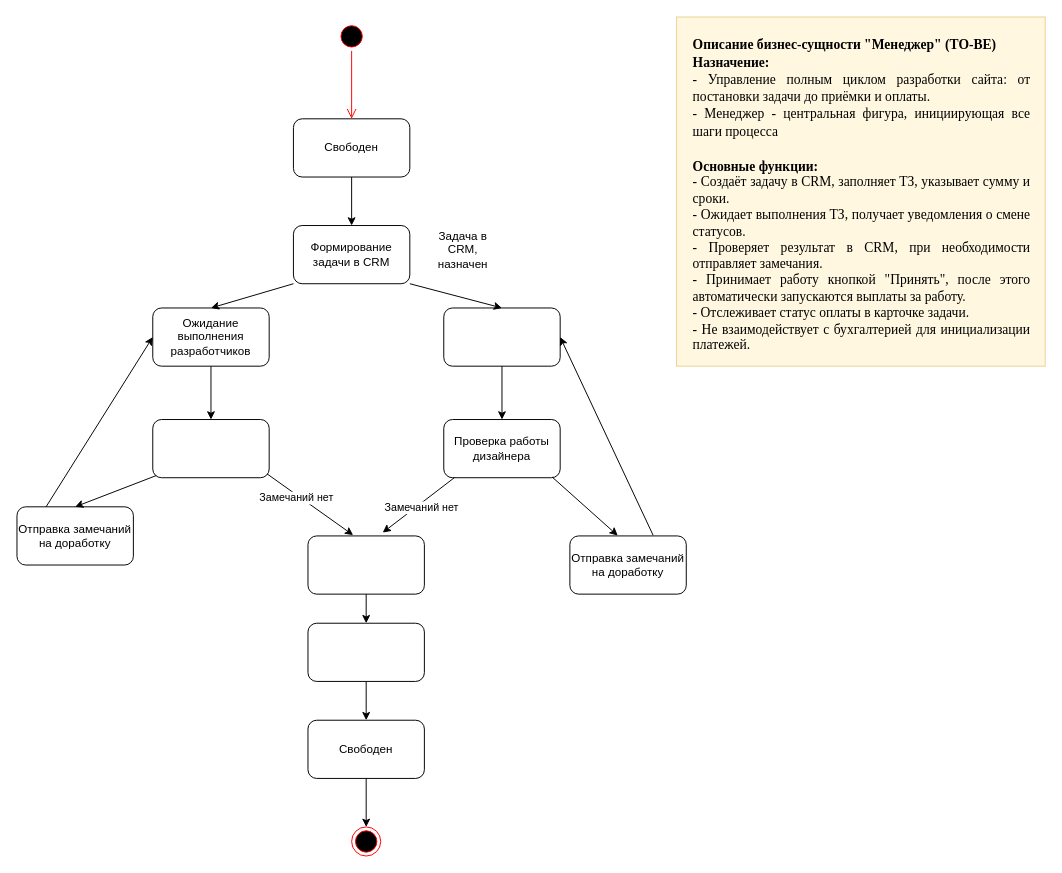
Some shapes in this 1062 by 873 pixel diagram are drawn without their labels. Each missing label, with the box of its shape:
Ожидание выполнения дизайнером: (443, 307, 560, 366)
Отслеживание выплаты: (307, 622, 424, 681)
Принятие работы: (307, 535, 424, 594)
Проверка работы разработчика: (152, 419, 269, 478)
